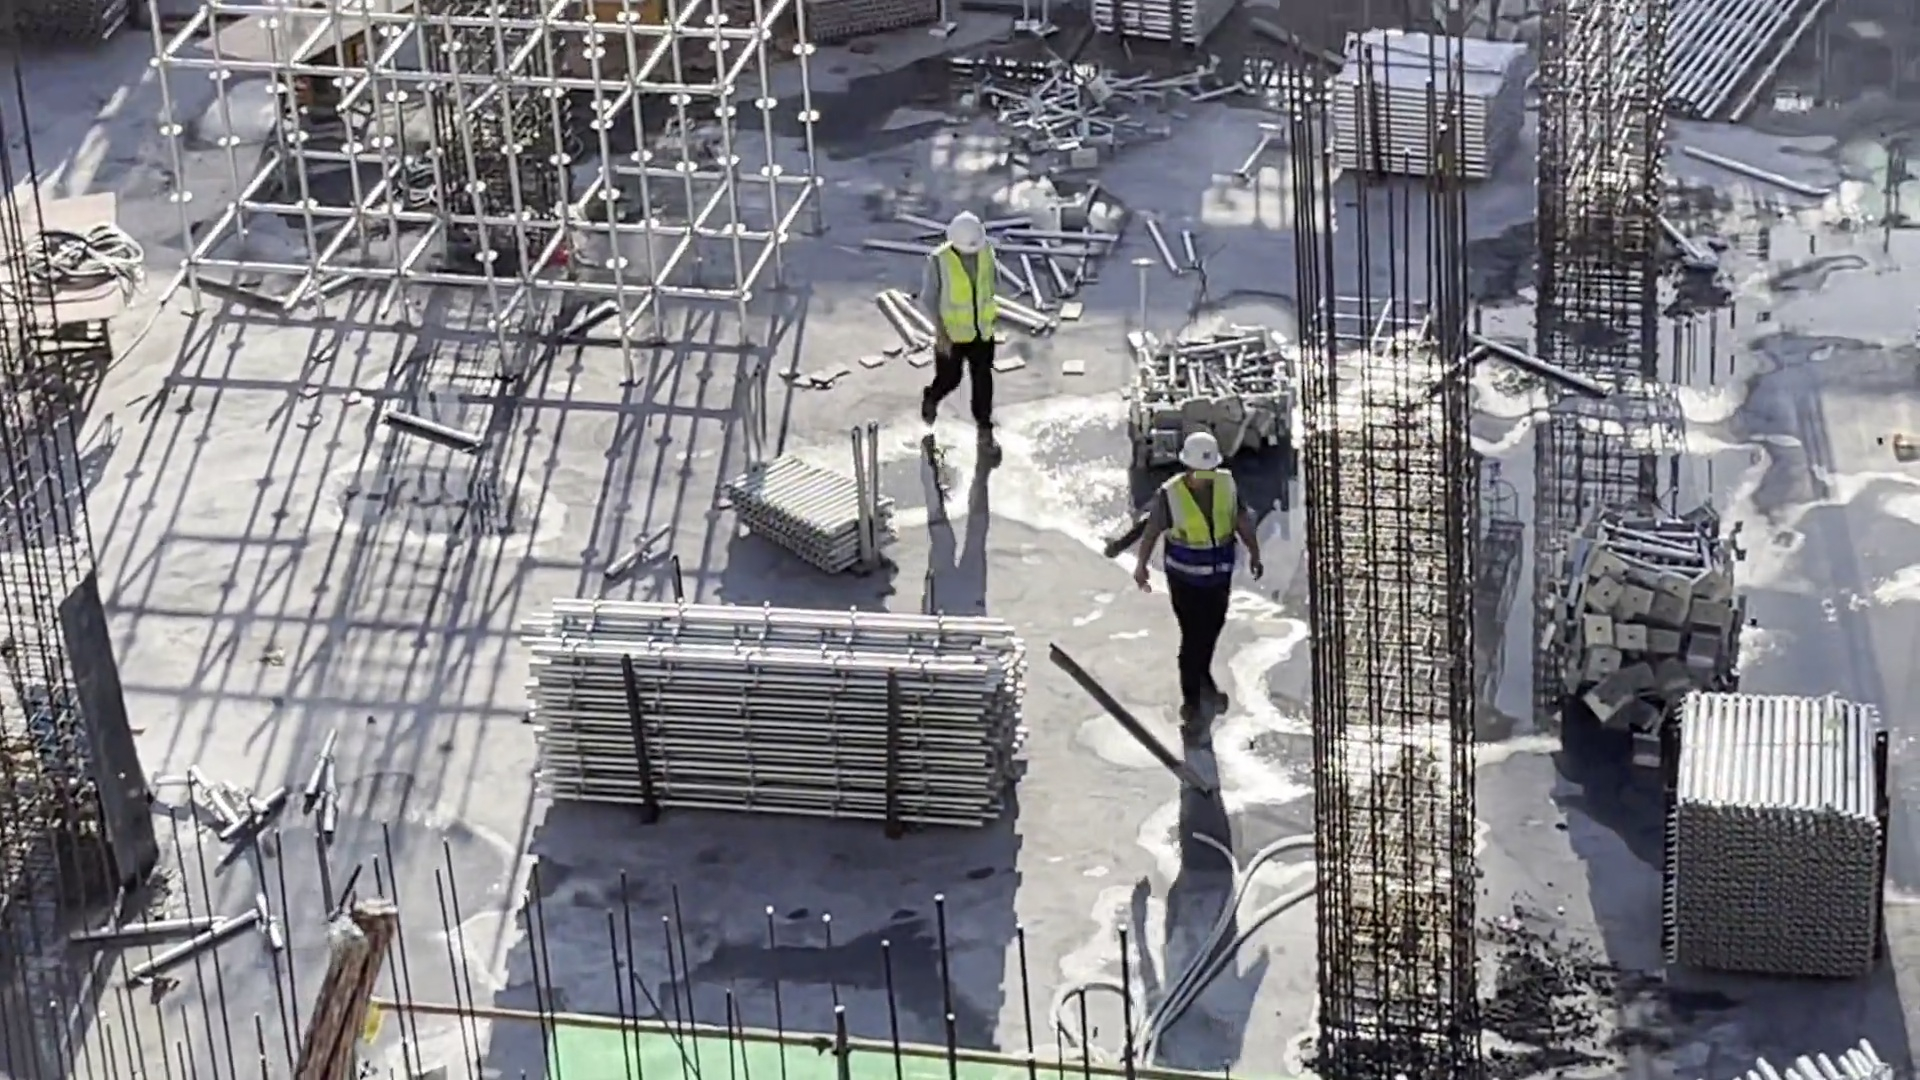cutter: (249, 5, 388, 157)
helmet: (938, 218, 986, 254), (1181, 426, 1223, 467)
person: (1128, 424, 1247, 715), (911, 212, 1011, 464)
scaffold: (535, 633, 992, 823), (1705, 717, 1885, 937), (1588, 1, 1813, 114), (1339, 43, 1511, 178), (739, 461, 892, 578), (1751, 1031, 1890, 1080), (1097, 1, 1216, 40)
vest: (930, 252, 1003, 352), (1163, 477, 1236, 571)
